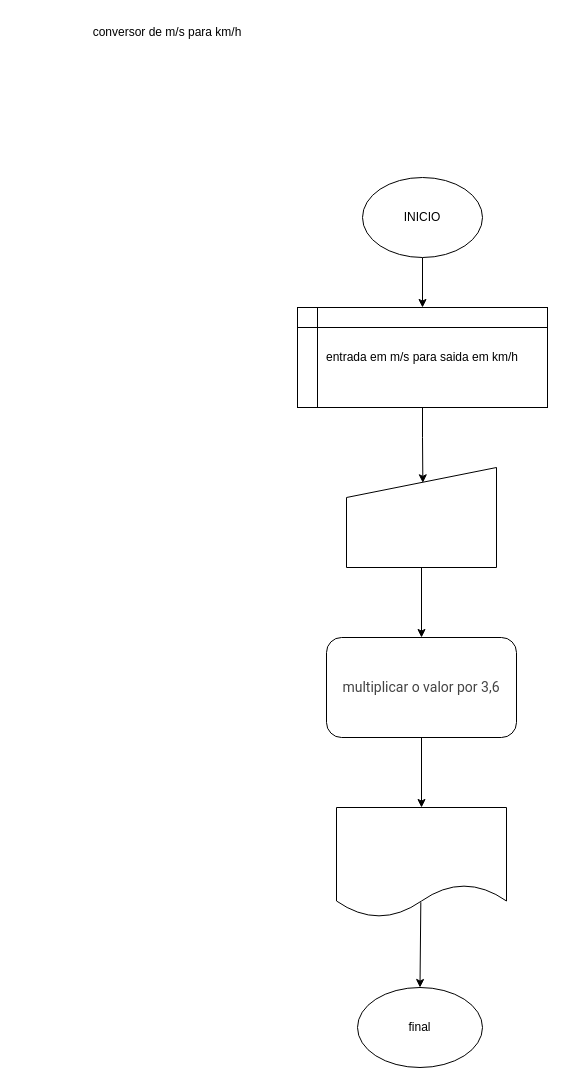
Image size: 565x1085. Some labels were removed from this diagram. The box of each missing label's shape, as (x1, y1, x2, y2) in pixels:
valor em km/h: (336, 806, 506, 918)
valor em m/s: (346, 466, 496, 568)
